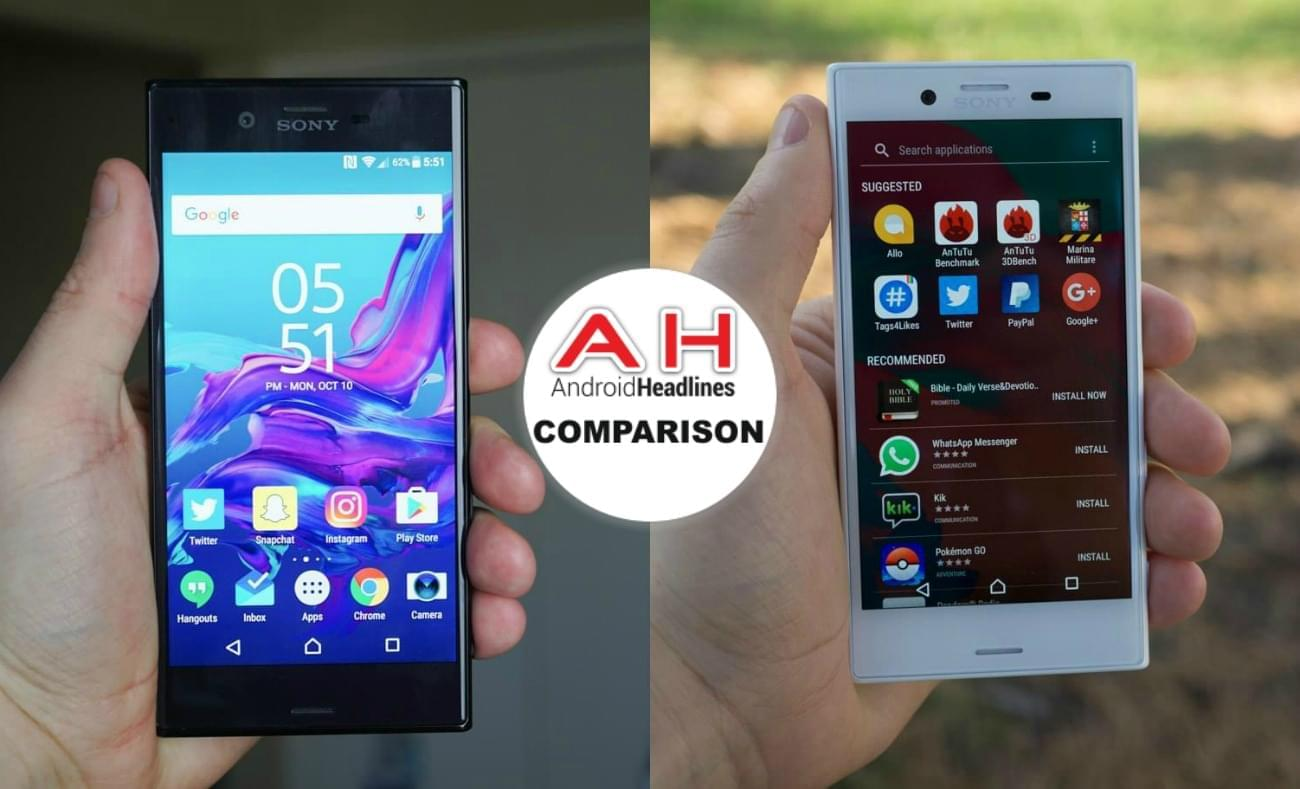smartphone: (148, 76, 472, 738), (826, 59, 1151, 683)
